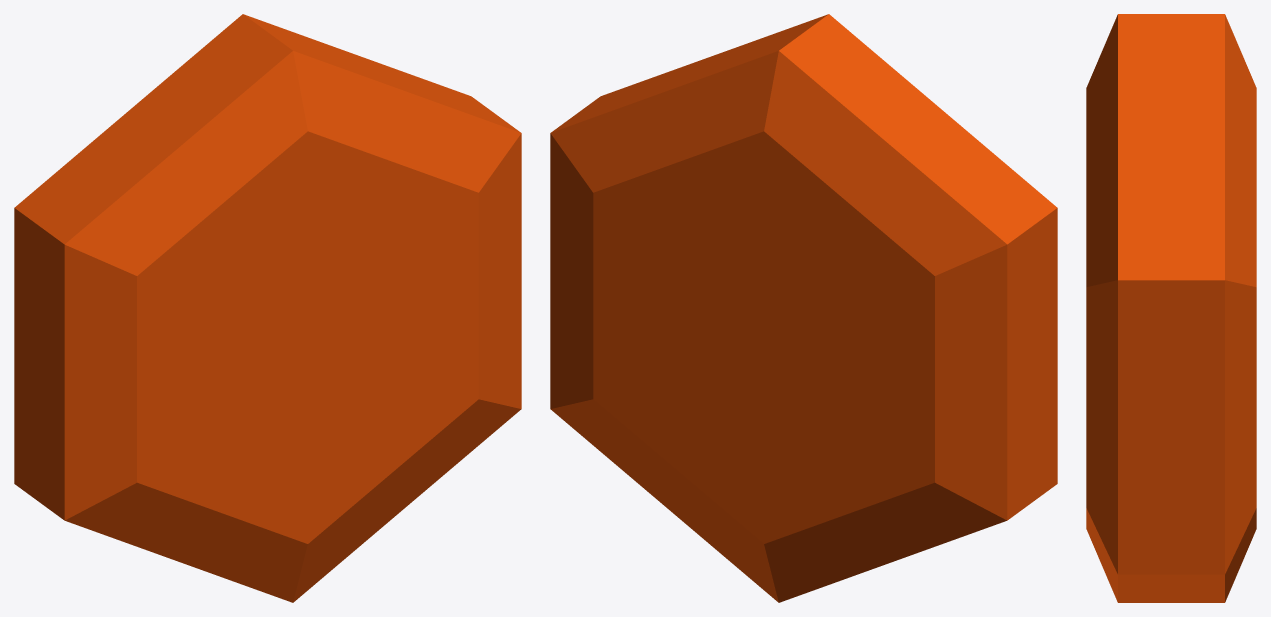
The model's file is turuncuTas.fbx.
3 views of the same model, side by side, from view 1: azimuth 30°, elevation 25°; view 2: azimuth 150°, elevation 25°; view 3: azimuth 270°, elevation 25° (orthographic). The views are drawn at different scales.
Parts seen in each view (by area): view 1: turuncuTas; view 2: turuncuTas; view 3: turuncuTas.
Part boxes in pixels (left/top/right/bottom): turuncuTas: left=14, top=14, right=521, bottom=602; turuncuTas: left=550, top=14, right=1057, bottom=602; turuncuTas: left=1086, top=14, right=1256, bottom=602.
Size of the model in its own units: 173 by 200 by 52.46.
